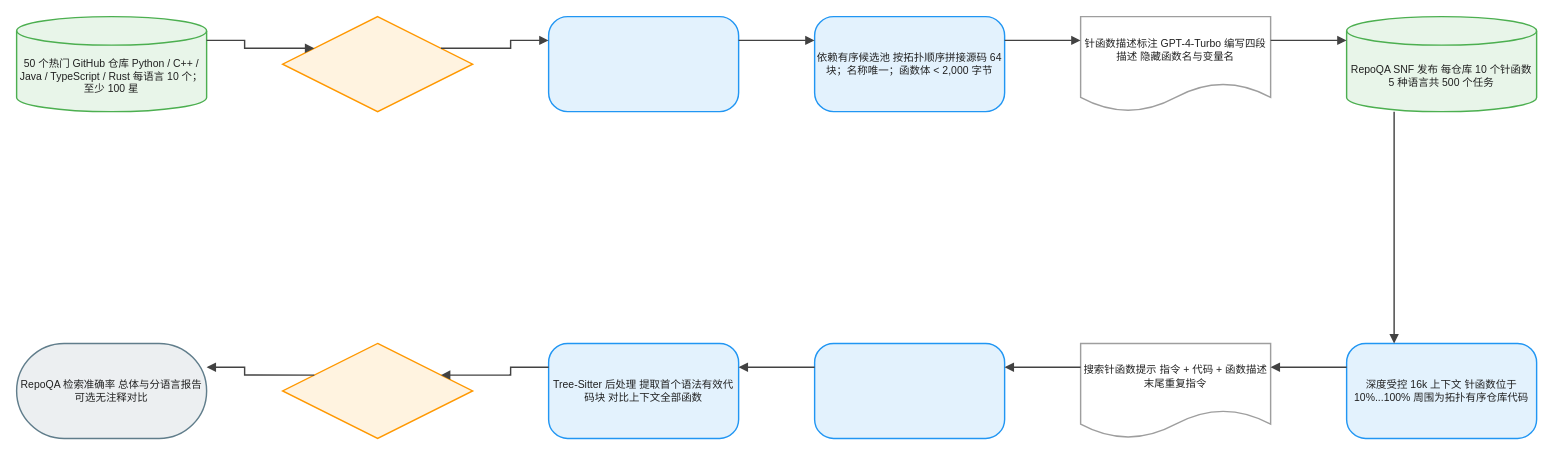
This 1554x456 diagram has some shape labels left out. The shapes that lost their labels are listed below. From the top down, each one's box as (x1, y1, x2, y2) in pixels, then its label:
(281, 15, 473, 112): 仓库质量门 主题多样 + 已打包项目 具备单元测试或 CI/CD
(547, 15, 739, 112): 入口目录分析 保留主包源文件 标注文件依赖关系
(281, 342, 473, 439): 检索成功门 目标针函数平滑 BLEU 最高 与针函数相似度 > 0.8
(813, 342, 1005, 439): 模型复述目标函数 在代码围栏中返回代码 不使用仓库工具或 Agent 循环
